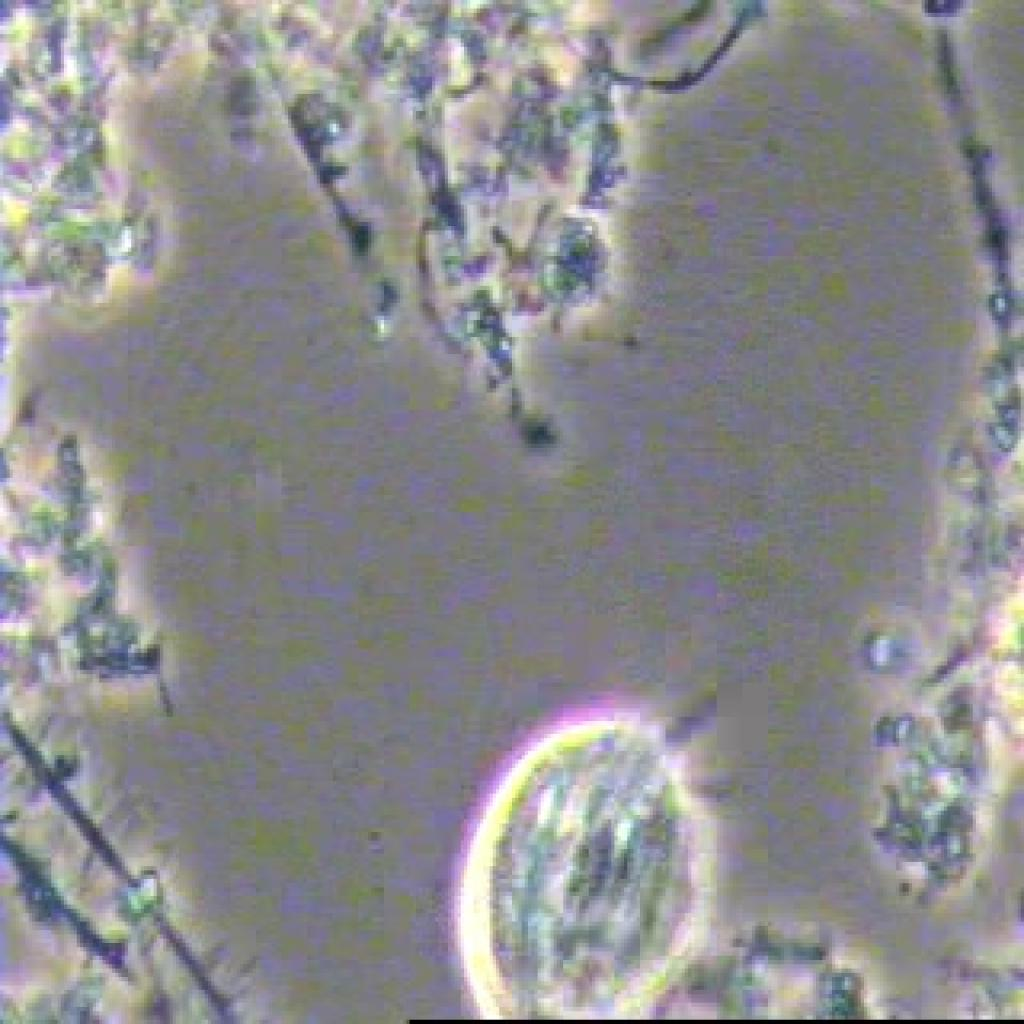Aspidisca: (398, 666, 748, 1016)
